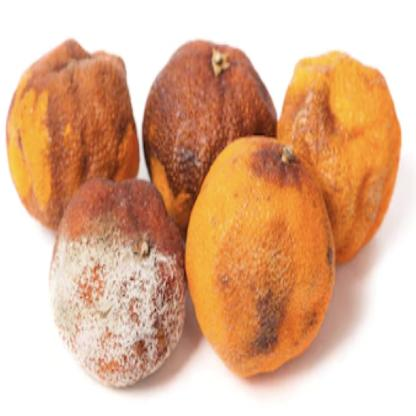rotten: (6, 41, 398, 391)
